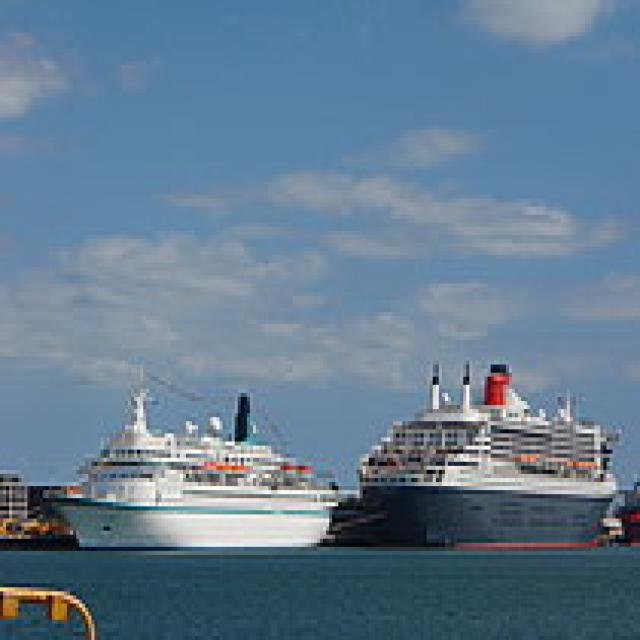Ship: (32, 353, 346, 564), (345, 345, 632, 564)
